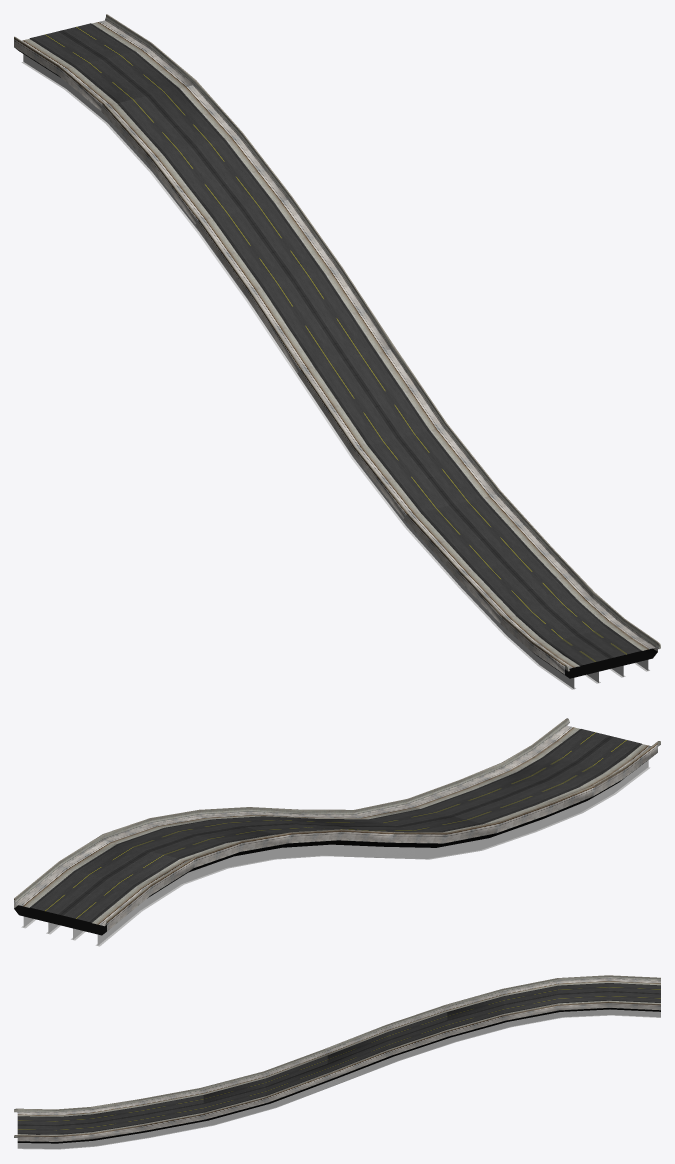
The model's file is Bridge-RampHL.FBX.
3 renders of one model, top to bottom at view 1: azimuth 30°, elevation 25°; view 2: azimuth 150°, elevation 25°; view 3: azimuth 270°, elevation 25°, orthographic. The views are drawn at different scales.
Parts seen in each view (by area): view 1: Bridge-RampHL; view 2: Bridge-RampHL; view 3: Bridge-RampHL.
Boxes of the visible parts, left/top/right/bottom form: Bridge-RampHL: left=14, top=14, right=660, bottom=689; Bridge-RampHL: left=14, top=718, right=660, bottom=946; Bridge-RampHL: left=14, top=975, right=660, bottom=1149.
Size of the model in its own units: 827 by 2179 by 8519.
